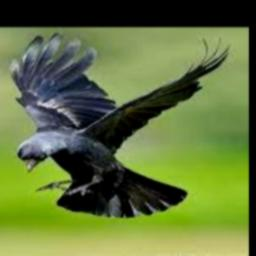Crow: (11, 33, 234, 217)
